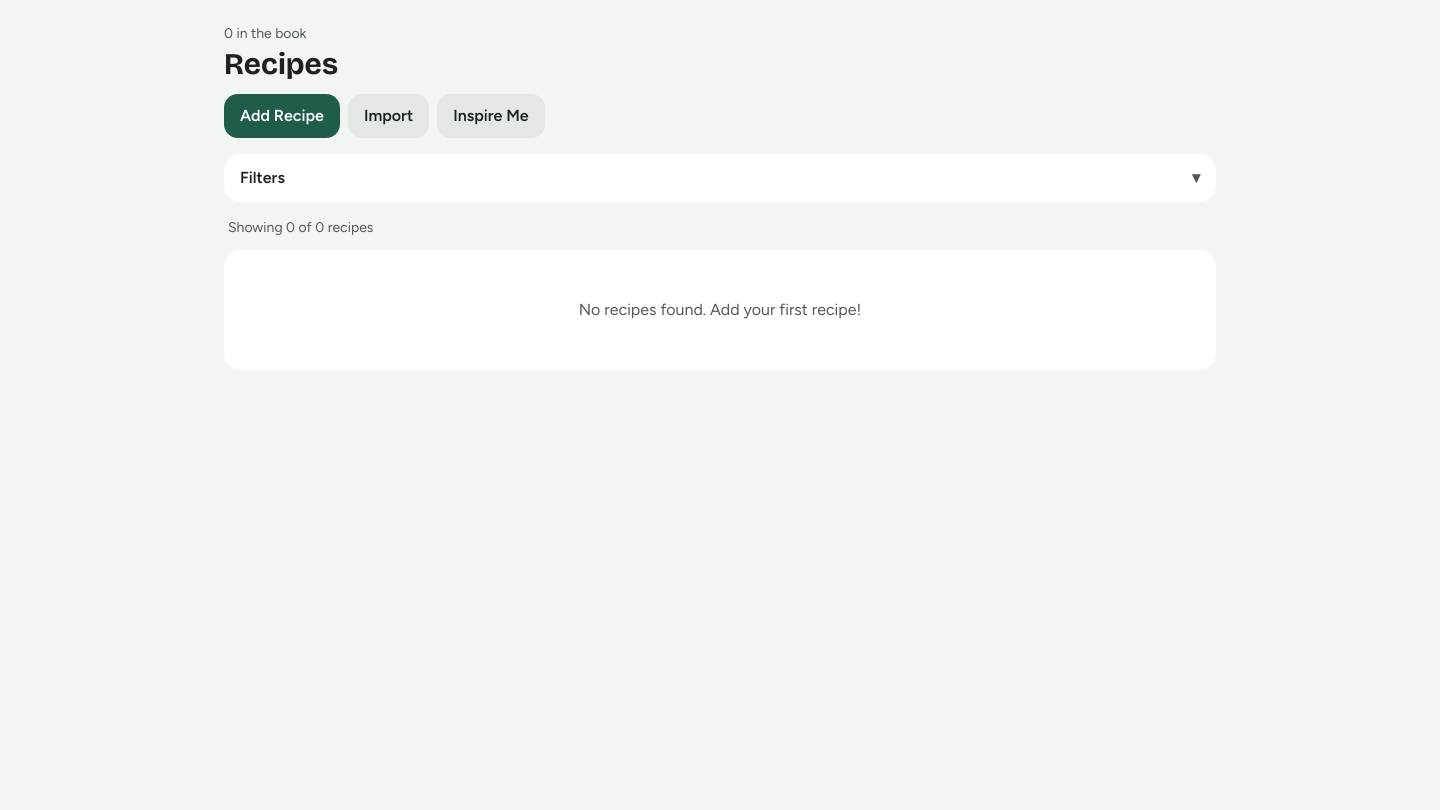
it: Inspire Me: accepting a suggestion › imports the suggestion URL with the importer, shows the review screen, and saves from there
The width and height of the screenshot is (1440, 810).
Click the button "Inspire Me" at (491, 116), box [437,94,545,138]
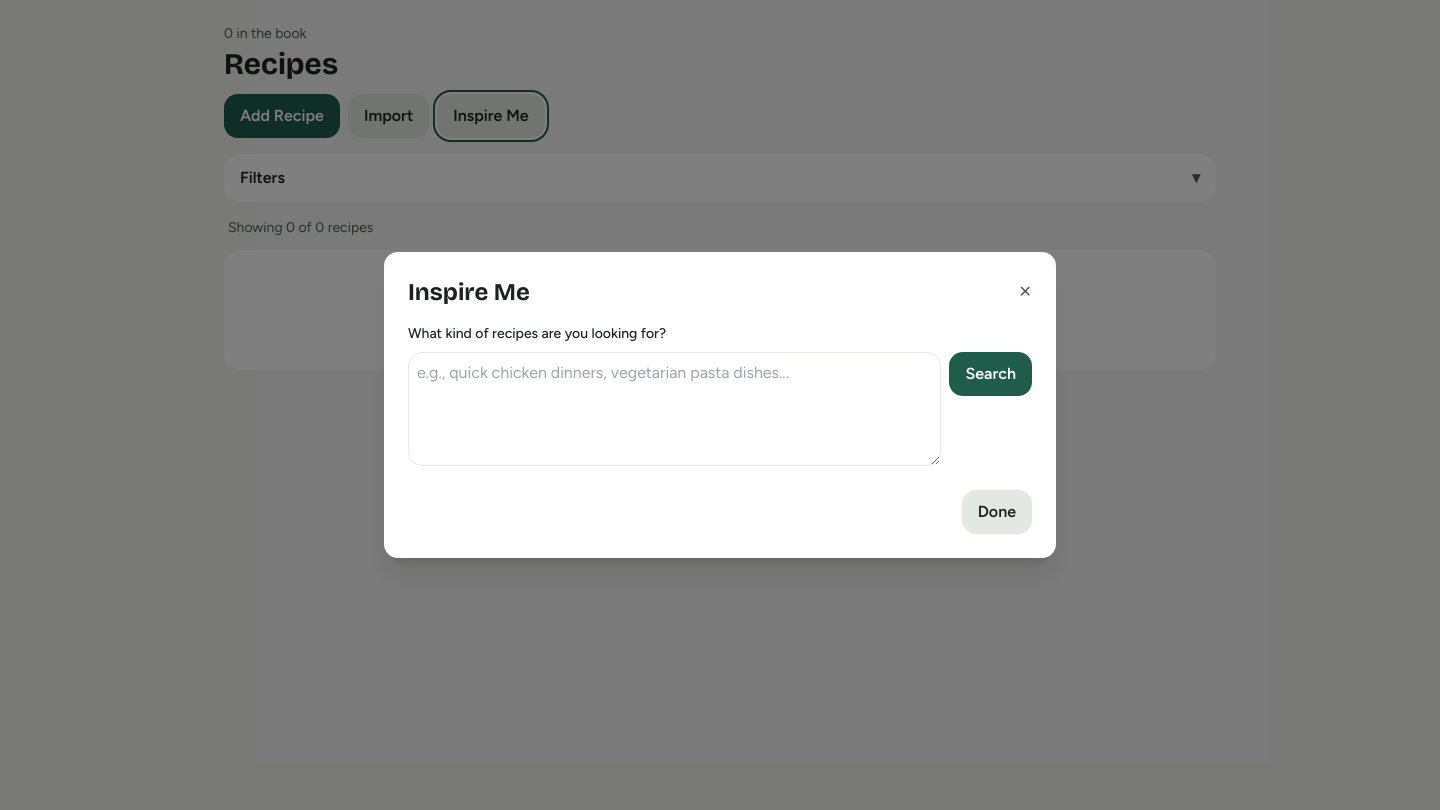
Type "chicken" into the text box with placeholder "e.g., quick chicken dinners, vegetarian pasta dishes..." at (675, 409), box [408,352,942,466]
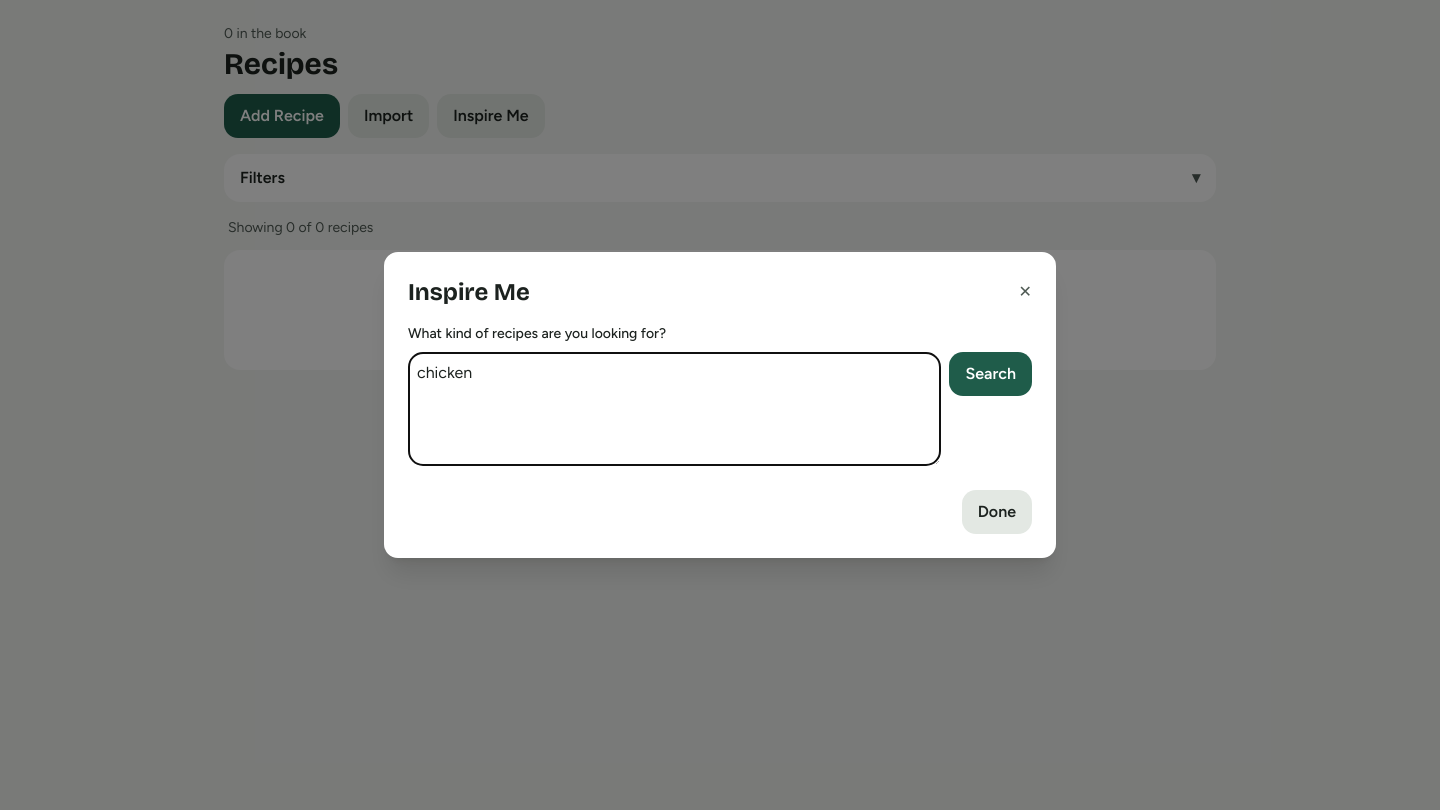
Click the button "Search" at (991, 374), box [950,352,1032,396]
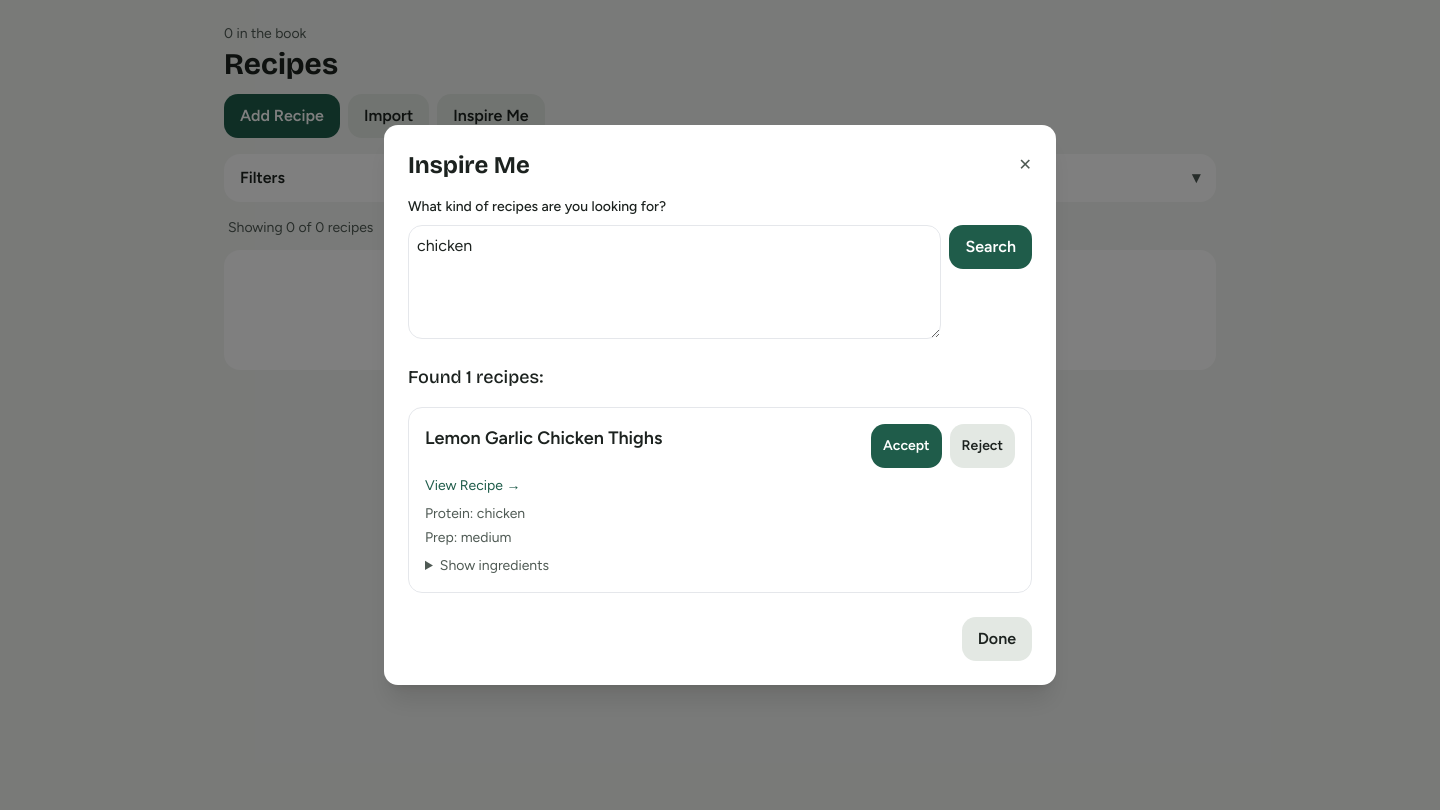
Now the button "Accept" is shown
Click the button "Accept" at (906, 446), box [871,424,942,468]
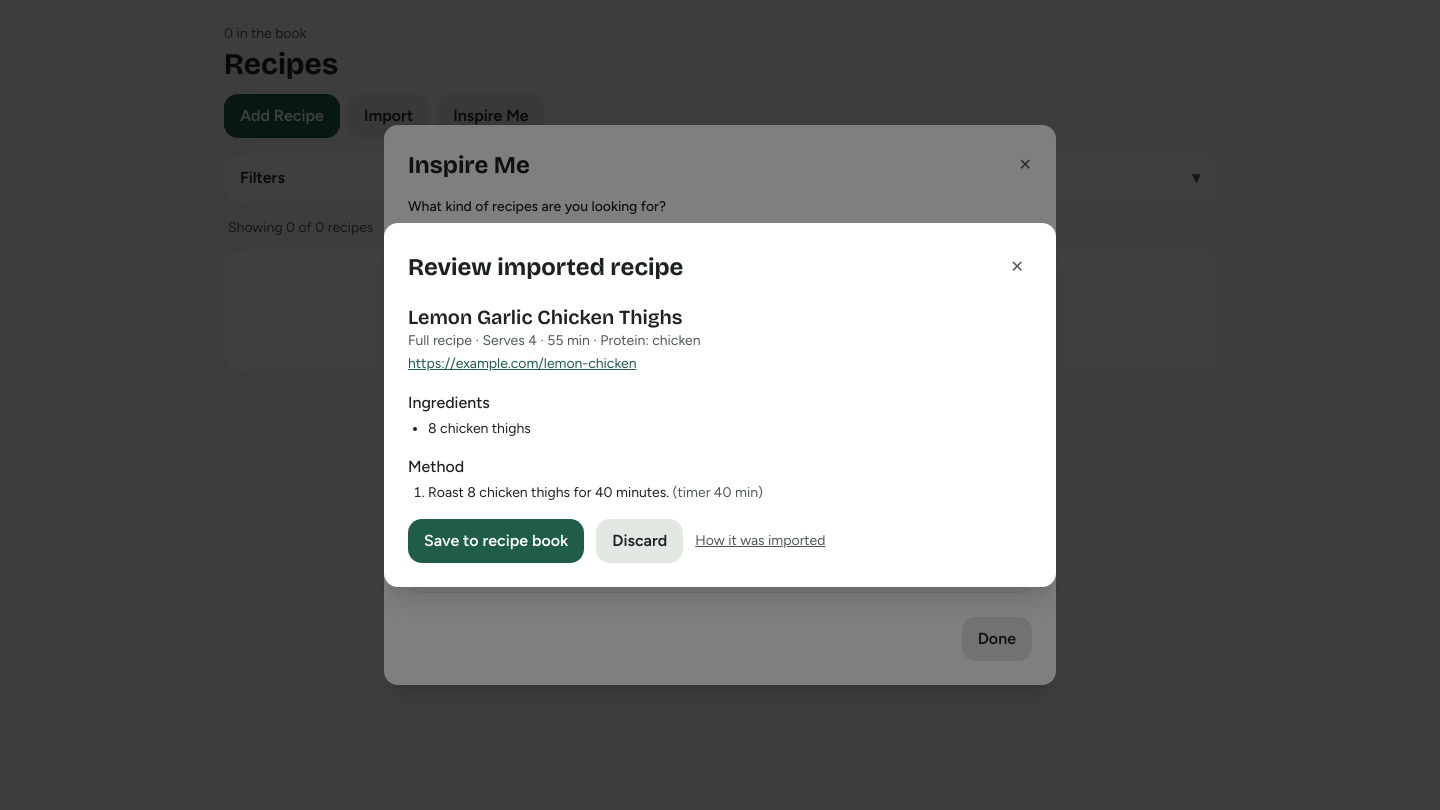
Now the heading "Review imported recipe" is shown, box [408,251,683,283]
Now the list item "Roast 8 chicken thighs for 40 minutes. (timer 40 min)" is shown, box [428,484,763,501]
Click the button "Save to recipe book" at (496, 541), box [408,519,584,563]
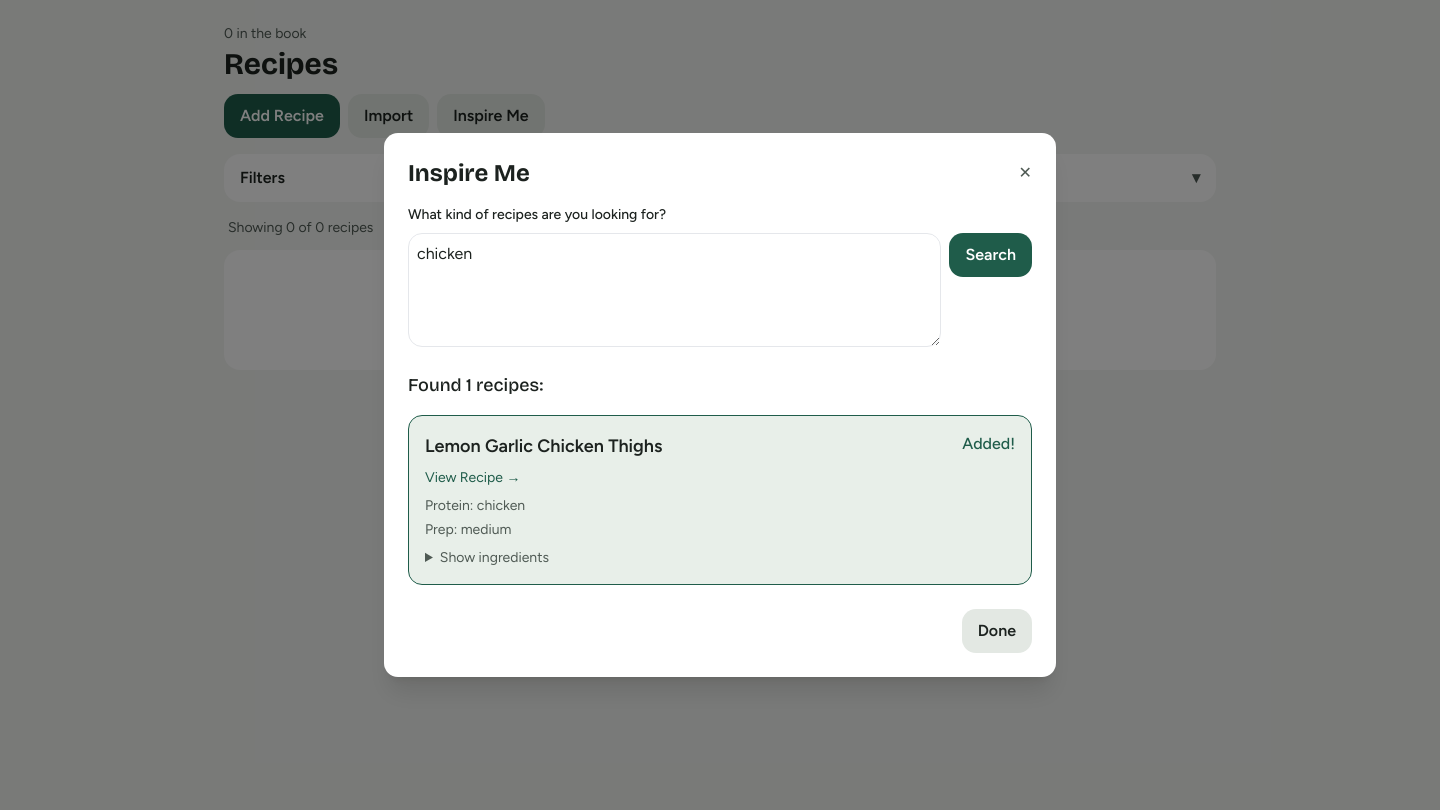
Now the text "Added!" is shown, box [962,432,1015,456]
